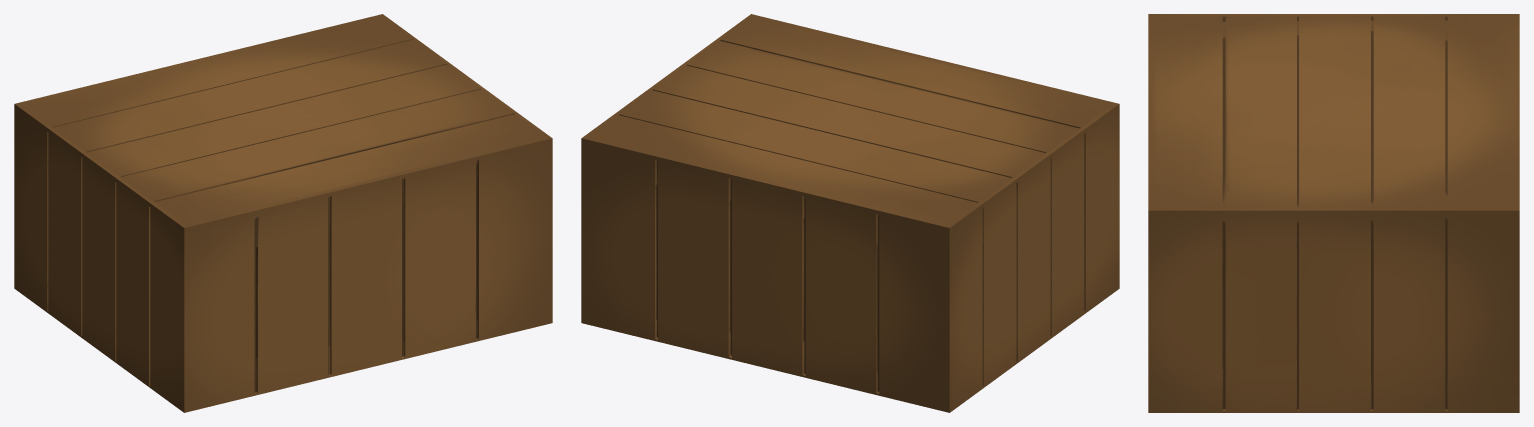
The model's file is shipRoom.fbx.
The picture shows the model from 3 angles, left to right: view 1: azimuth 30°, elevation 25°; view 2: azimuth 150°, elevation 25°; view 3: azimuth 270°, elevation 25°; orthographic projection. The views are drawn at different scales.
Visible parts, largest first — view 1: Box007; view 2: Box007; view 3: Box007.
Part boxes in pixels (x1,y1,x2,y2): Box007: (14,14,552,412); Box007: (581,14,1119,412); Box007: (1148,14,1519,412).
Bounding box in the file's own units: 1086 × 521 × 867.
Materials: 1 (1 with a texture image).
